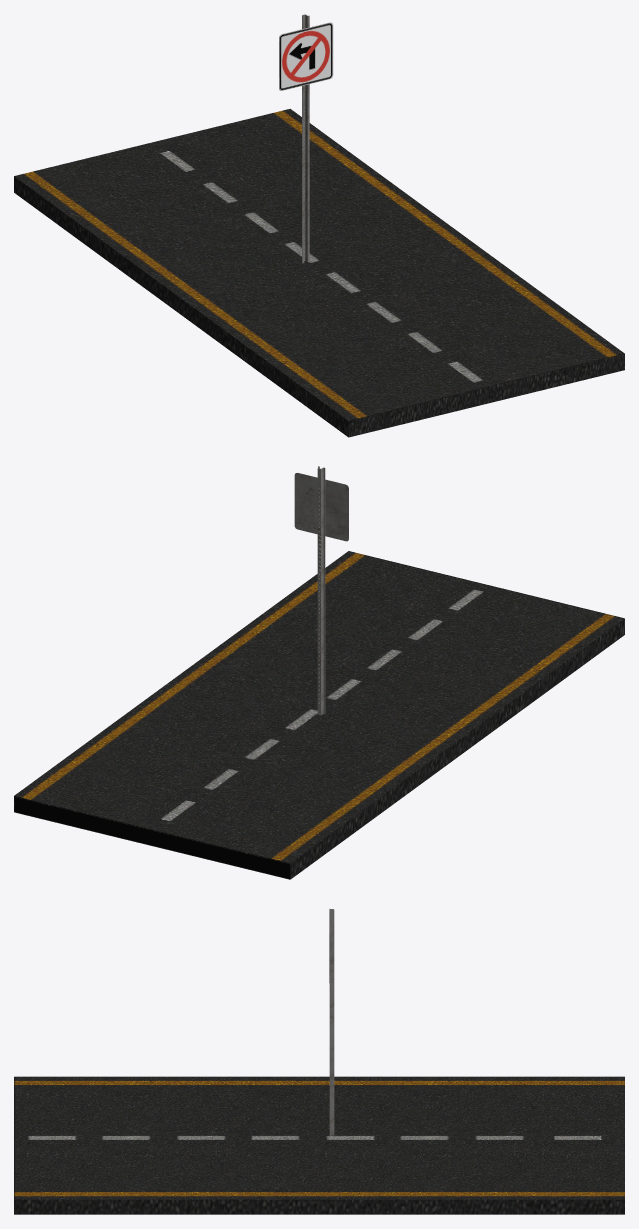
File: noleftturnsignboard.glb
3 renders of one model, top to bottom at view 1: azimuth 30°, elevation 25°; view 2: azimuth 150°, elevation 25°; view 3: azimuth 270°, elevation 25°, orthographic. The views are drawn at different scales.
Visible parts, largest first — view 1: road.003, Object_40; view 2: road.003, Object_40; view 3: road.003, Object_40.
Part boxes in pixels (x1=…): road.003: x1=14, y1=108, x2=624, y2=437; Object_40: x1=279, y1=14, x2=333, y2=263; road.003: x1=14, y1=551, x2=624, y2=879; Object_40: x1=294, y1=466, x2=348, y2=715; road.003: x1=14, y1=1076, x2=624, y2=1214; Object_40: x1=329, y1=908, x2=334, y2=1135.
Size of the model in its own units: 4.16 by 3.78 by 8.73.
Materials: 2 (2 with a texture image).
